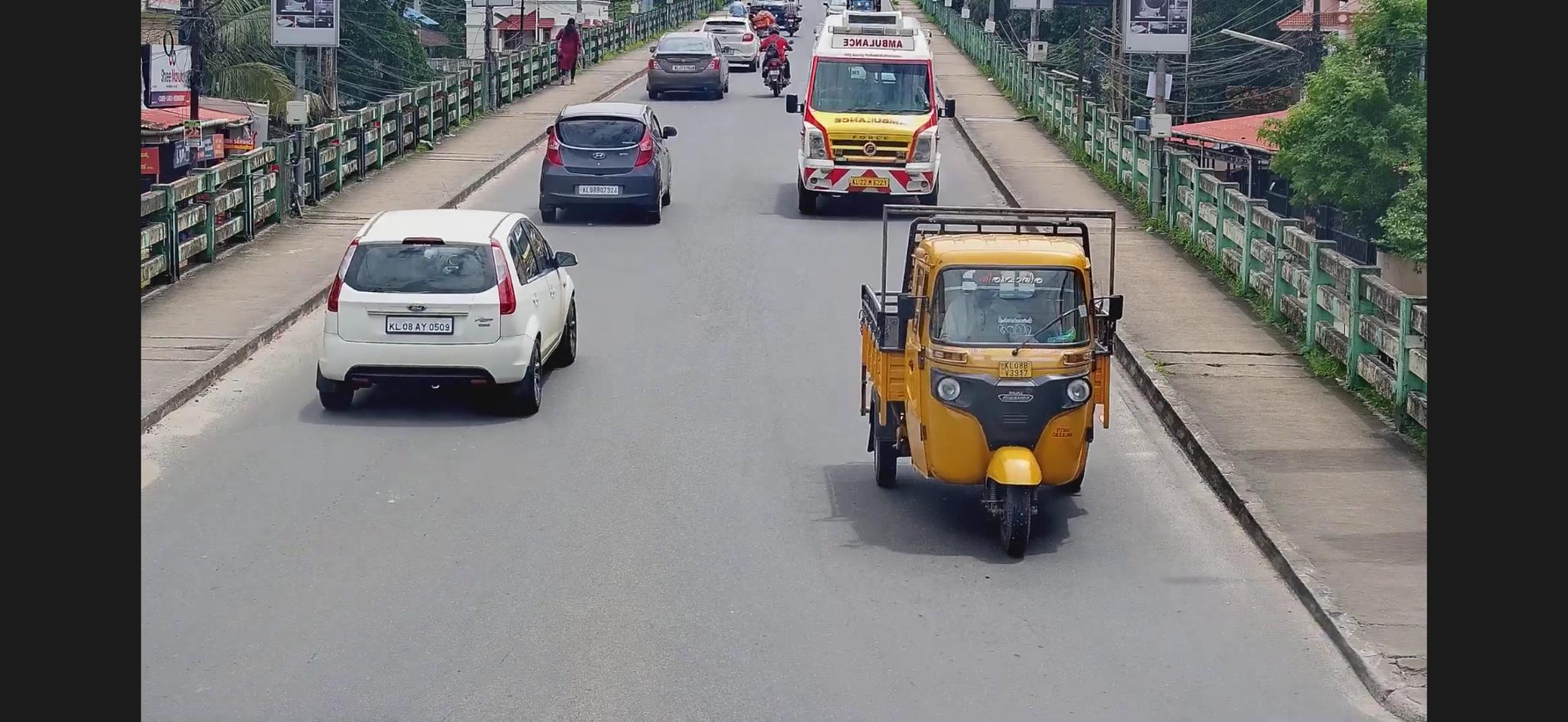ambulance: (796, 9, 939, 218)
